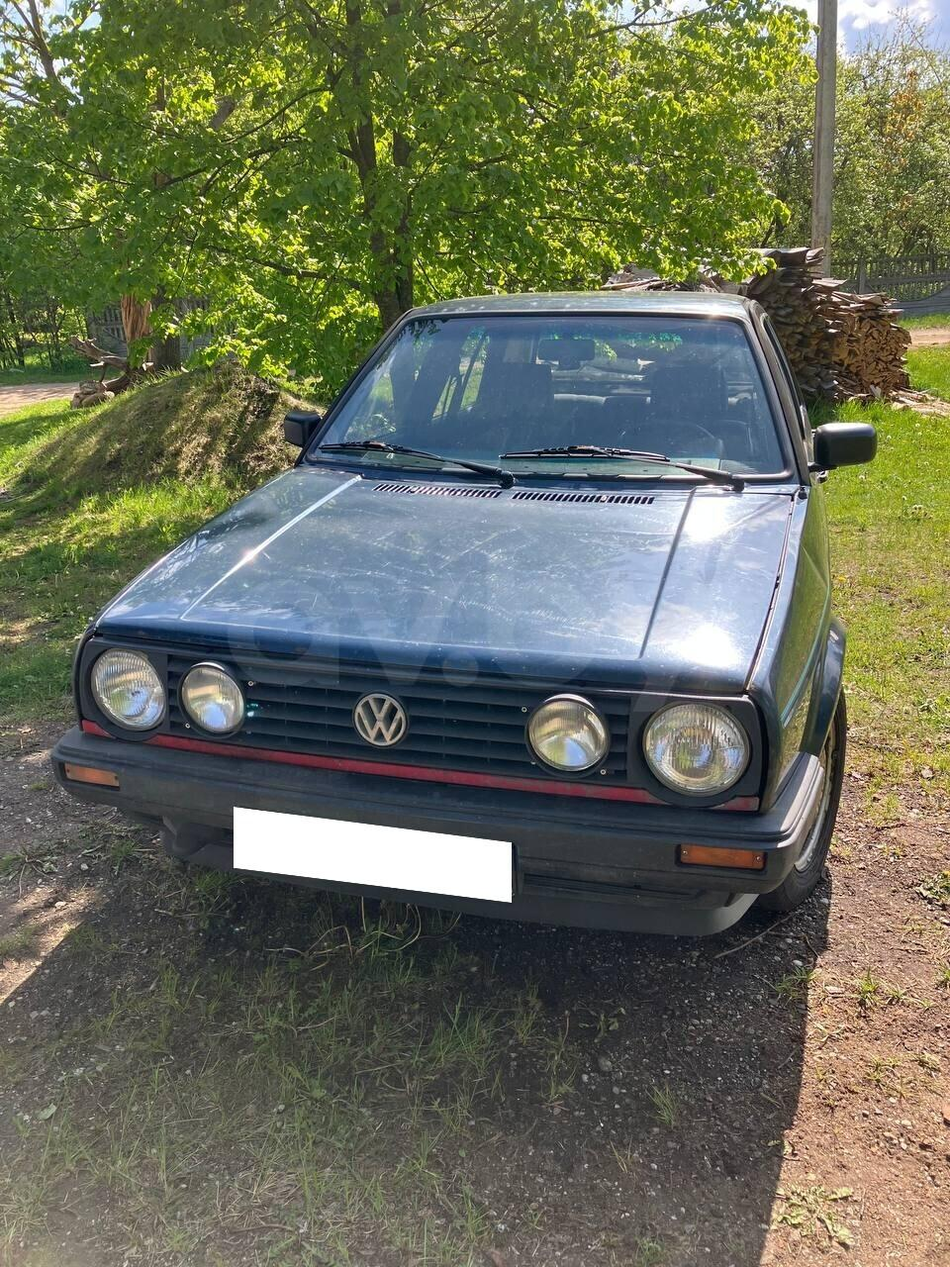Golf_1983-1992: (56, 280, 863, 952)
